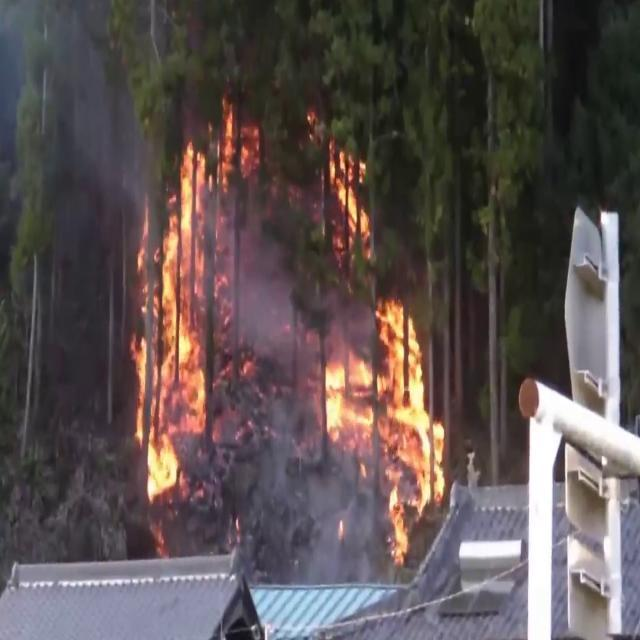Fire: (125, 122, 233, 500), (317, 280, 450, 551), (326, 134, 372, 252)
Smoke: (0, 1, 149, 320), (220, 208, 300, 364)
